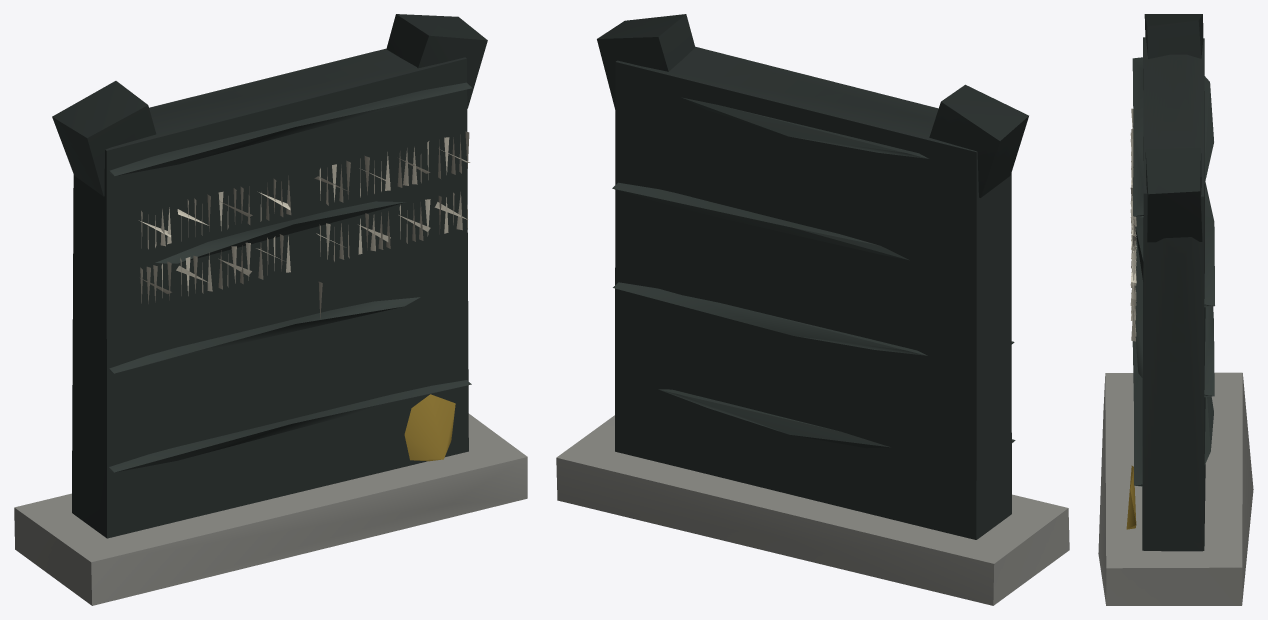
File: tally_slab_a_lod2.glb
The picture shows the model from 3 angles, left to right: view 1: azimuth 30°, elevation 25°; view 2: azimuth 150°, elevation 25°; view 3: azimuth 270°, elevation 25°; orthographic projection. The views are drawn at different scales.
Parts seen in each view (by area): view 1: Surface.001; view 2: Surface.001; view 3: Surface.001.
Boxes of the visible parts, x1,y1,x2,y2 form: Surface.001: (14, 14, 527, 605); Surface.001: (556, 14, 1069, 605); Surface.001: (1098, 14, 1253, 605).
Bounding box in the file's own units: 1.76 × 1.82 × 0.5951.
